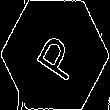P_NW: (28, 26, 82, 84)
